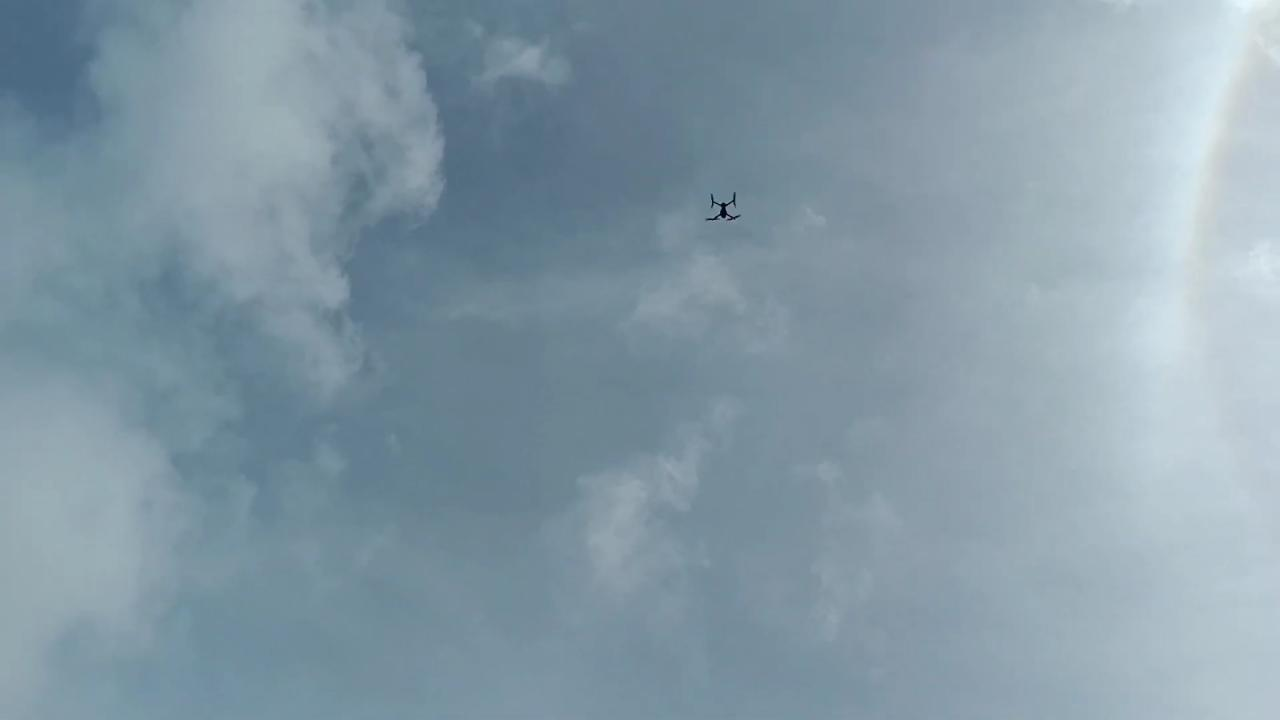Drone: (694, 183, 753, 230)
